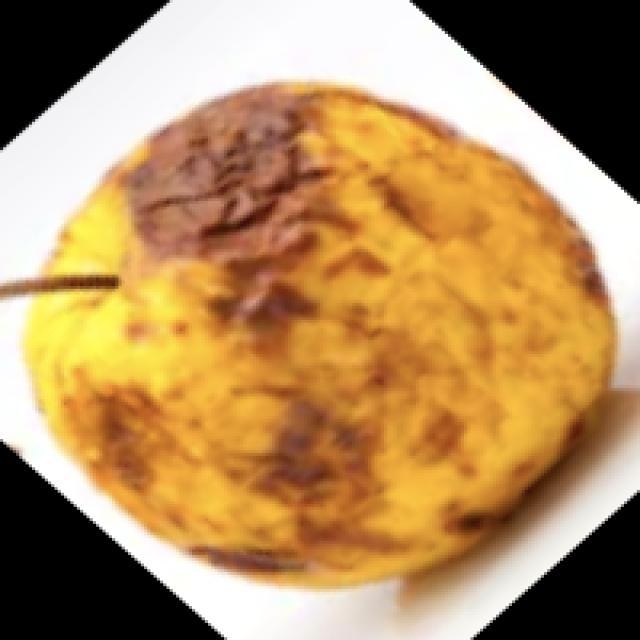Rotten: (57, 88, 603, 592)
